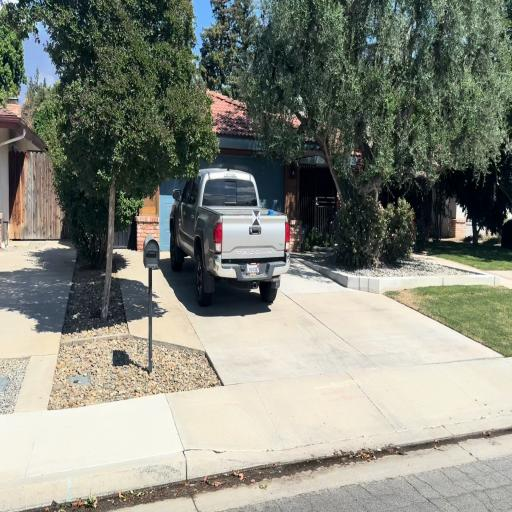target1: (252, 209, 260, 226)
